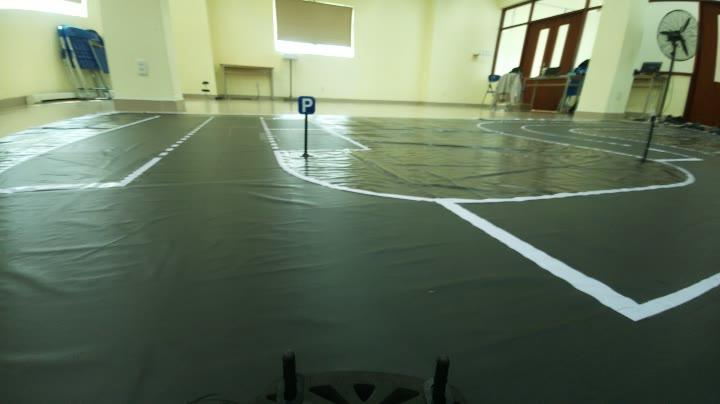parking: (289, 90, 327, 118)
